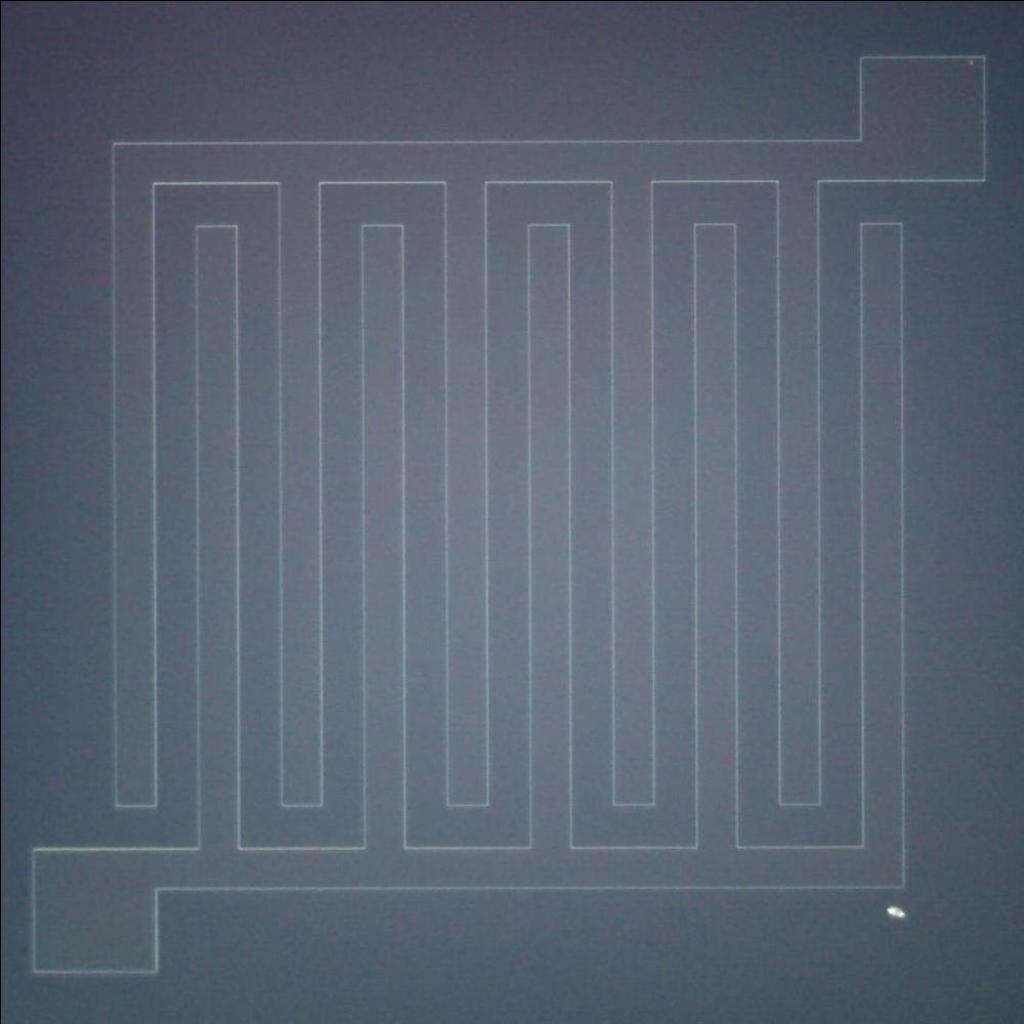spot: (882, 897, 909, 924)
